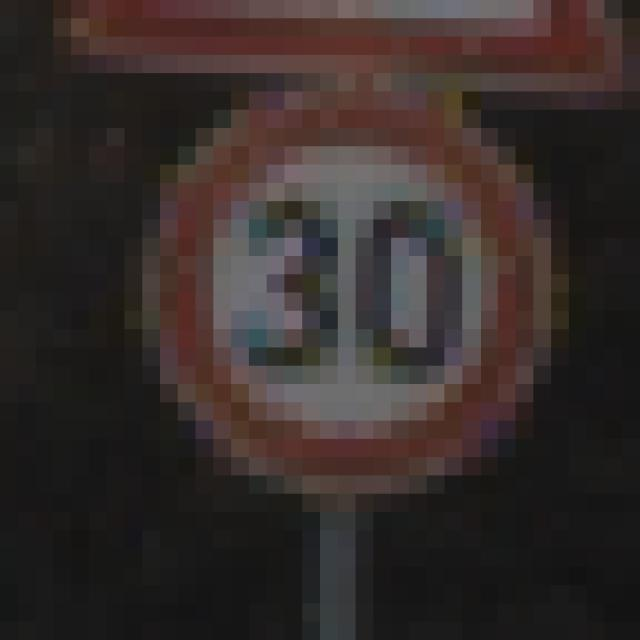Speed Limit -30-: (98, 82, 542, 521)
